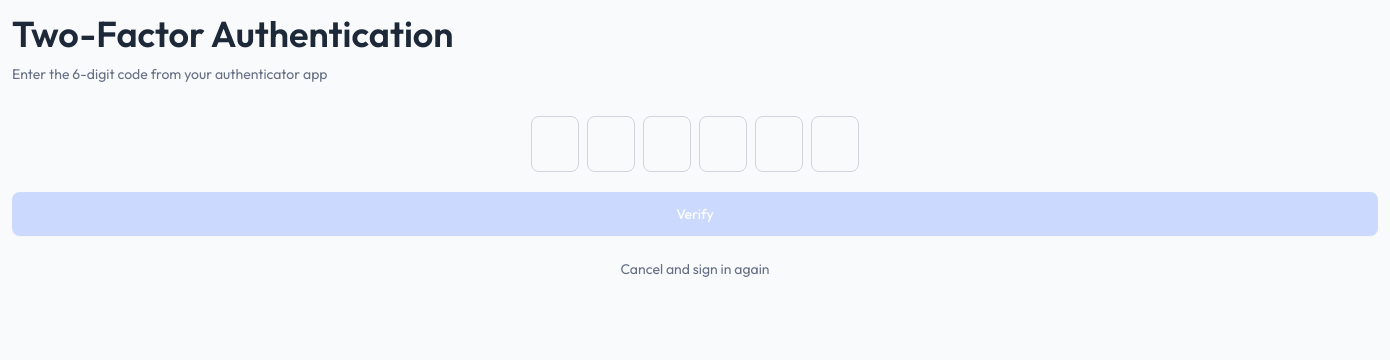
TwoFactorVerifyForm › displays error message on verification failure
Type "1" into the field named "Digit 1 of 6" at point(555, 144), box [531, 116, 579, 172]
Type "2" into the field named "Digit 2 of 6" at point(611, 144), box [587, 116, 635, 172]
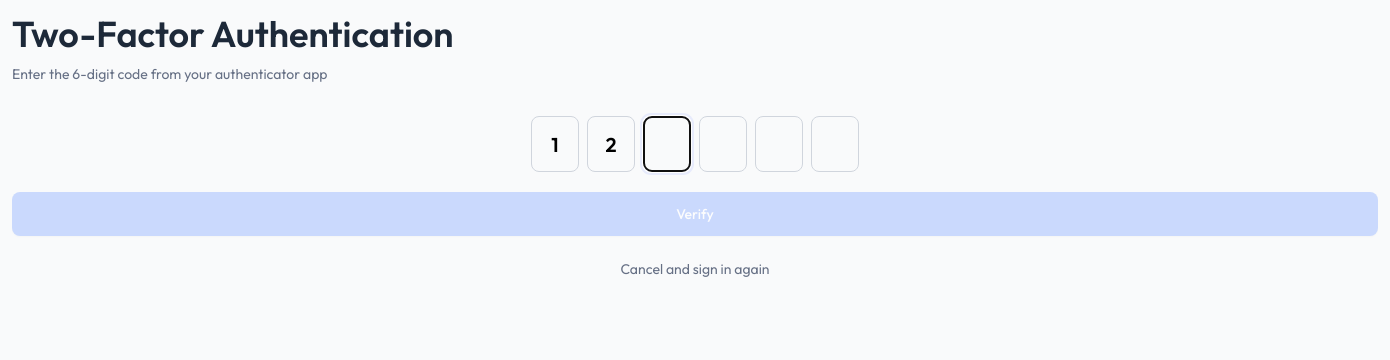
Type "3" into the field named "Digit 3 of 6" at point(667, 144), box [643, 116, 691, 172]
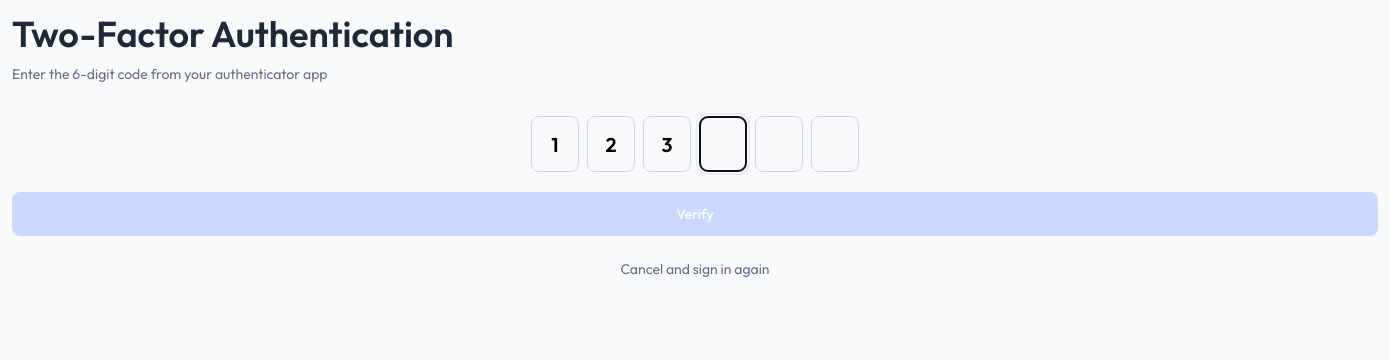
Type "4" into the field named "Digit 4 of 6" at point(723, 144), box [699, 116, 747, 172]
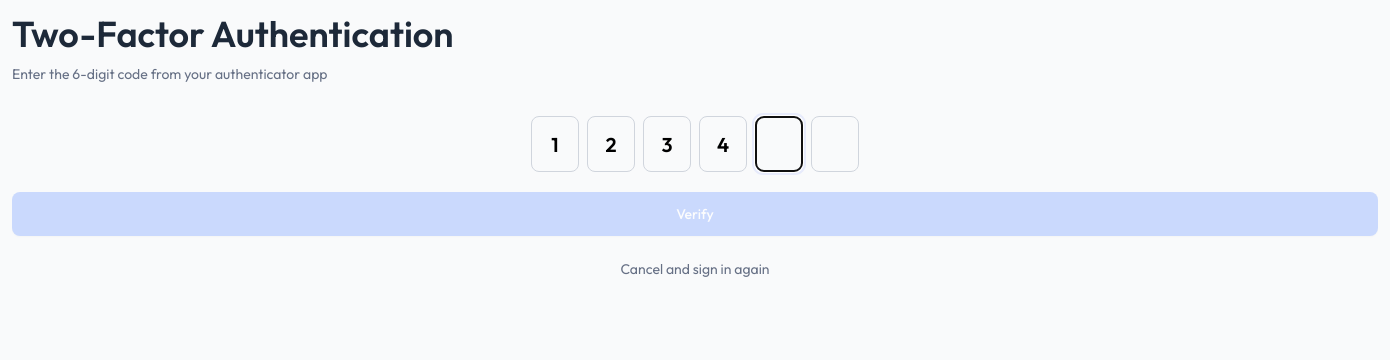
Type "5" into the field named "Digit 5 of 6" at point(779, 144), box [755, 116, 803, 172]
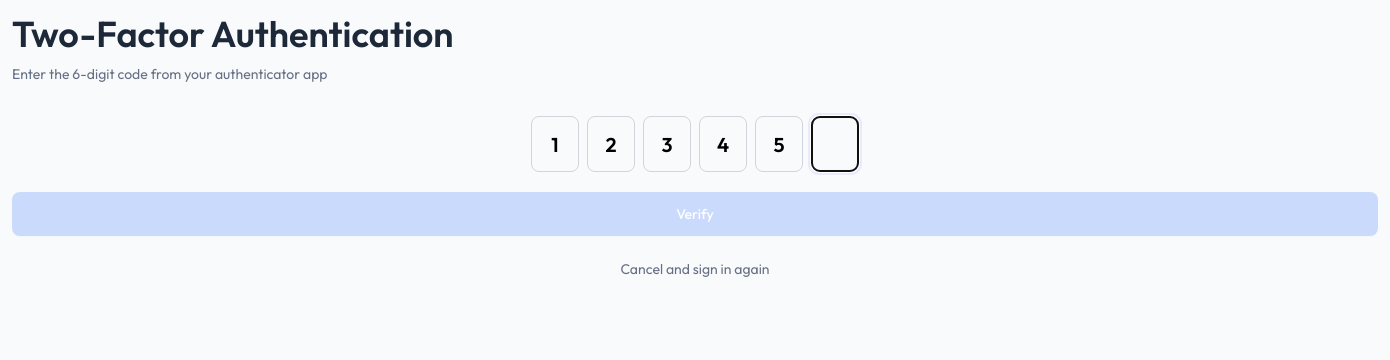
Type "6" into the field named "Digit 6 of 6" at point(835, 144), box [811, 116, 859, 172]
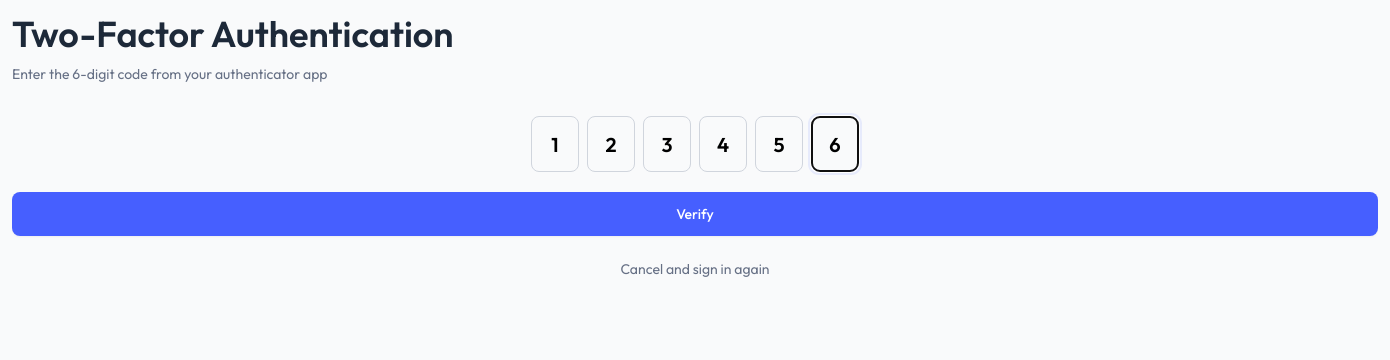
Click the button "Verify" at point(695, 214), box [12, 192, 1378, 236]
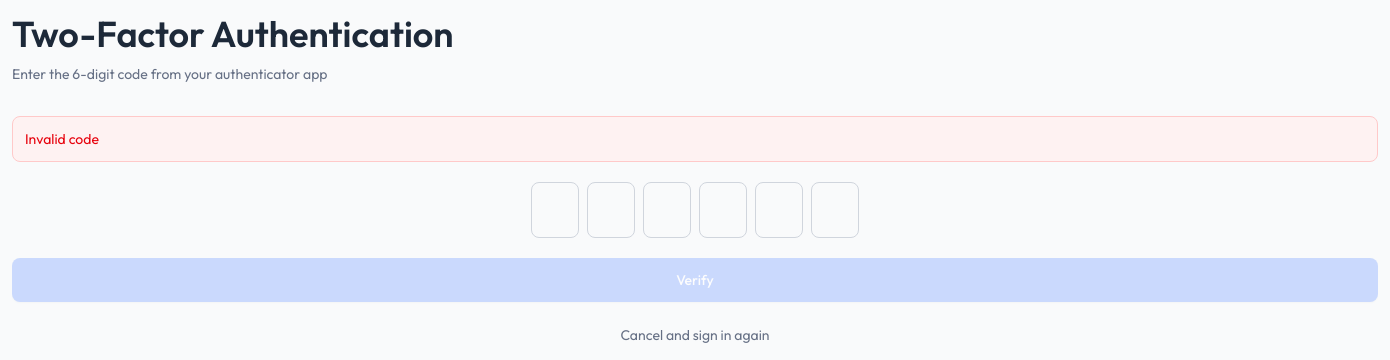
Expected: the text "Invalid code" is shown, [12, 116, 1378, 162]
